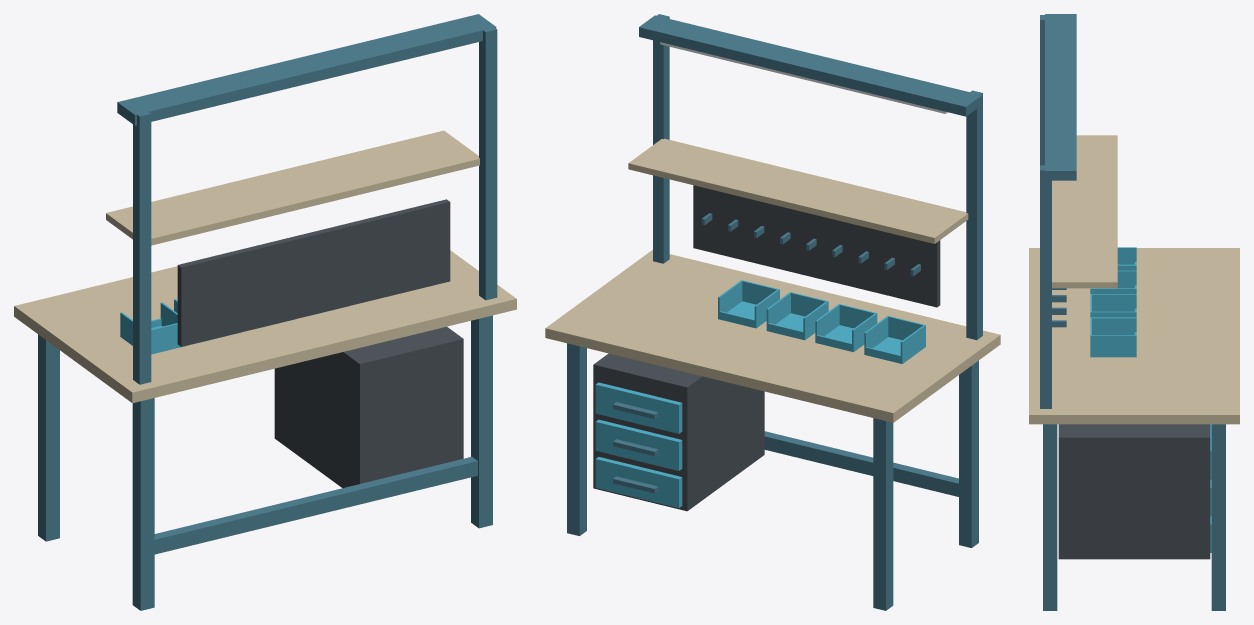
File: concept-assembly-bench.glb
3 renders of one model, left to right at view 1: azimuth 30°, elevation 25°; view 2: azimuth 150°, elevation 25°; view 3: azimuth 270°, elevation 25°, orthographic. The views are drawn at different scales.
Parts seen in each view (by area): view 1: Worktop, Cabinet, Tool_panel, Shelf, Light_bridge, Lower_crossmember, Upright, Upright.001, Leg, Leg.002, Leg.001, Small_bin_back; view 2: Worktop, Tool_panel, Cabinet, Shelf, Light_bridge, Leg.001, Upright, Leg.003, Leg, Lower_crossmember, Upright.001, Drawer.002 (+3 smaller); view 3: Worktop, Cabinet, Shelf, Light_bridge, Upright.001, Leg.002, Leg.003, Small_bin_side.007, Small_bin_side.006, Small_bin_side.004, Upright, Small_bin_side.002 (+2 smaller).
Boxes of the visible parts, x1,y1,x2,y2 form: Worktop: (14,250,516,403); Cabinet: (274,326,463,488); Tool_panel: (177,199,450,346); Shelf: (106,130,479,245); Light_bridge: (117,14,496,125); Lower_crossmember: (154,456,477,554); Upright: (133,110,151,384); Upright.001: (479,27,497,300); Leg: (132,398,154,610); Leg.002: (471,315,492,528); Leg.001: (38,334,59,541); Small_bin_back: (151,323,180,353); Worktop: (545,250,1000,422); Tool_panel: (693,185,940,307); Cabinet: (593,353,764,511); Shelf: (628,138,968,243); Light_bridge: (639,15,982,116); Leg.001: (873,418,893,610); Upright: (966,90,982,340); Leg.003: (567,343,586,535); Leg: (959,360,978,547); Lower_crossmember: (764,431,958,496); Upright.001: (653,14,669,263); Drawer.002: (595,382,682,433); Worktop: (1029,248,1239,424); Cabinet: (1058,424,1210,559); Shelf: (1052,135,1117,288); Light_bridge: (1045,14,1076,180); Upright.001: (1040,165,1051,408); Leg.002: (1043,424,1057,610); Leg.003: (1211,424,1225,610); Small_bin_side.007: (1092,335,1136,355); Small_bin_side.006: (1092,317,1136,334); Small_bin_side.004: (1092,294,1136,311); Upright: (1040,15,1044,165); Small_bin_side.002: (1117,270,1136,288).
Bounding box in the file's own units: 1.5 × 1.85 × 0.8.
